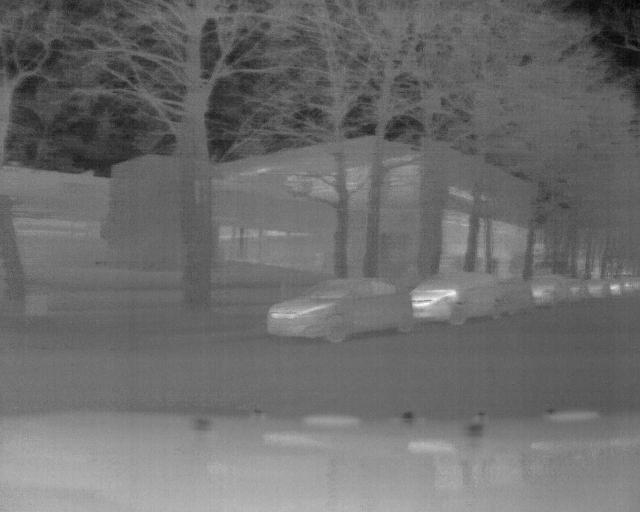car: (269, 276, 414, 344), (412, 268, 504, 325)
